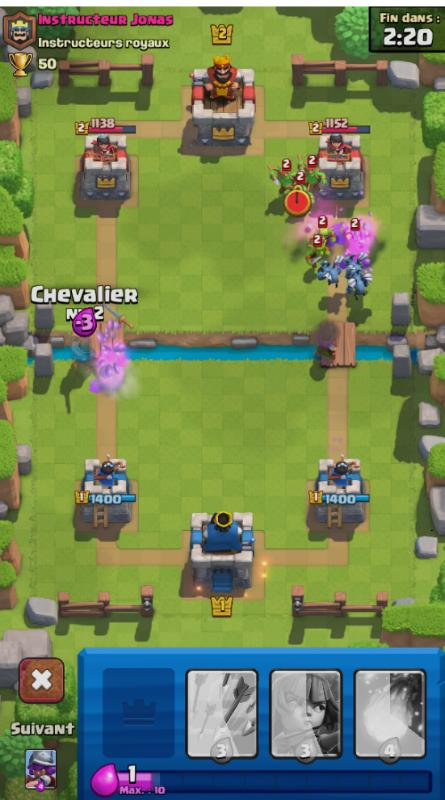chevalier: (68, 325, 105, 381)
gargouille: (313, 260, 344, 293), (337, 250, 371, 280), (346, 269, 375, 301)
gobelin: (300, 240, 332, 269), (339, 224, 370, 250), (312, 223, 338, 251)
gobelin_lances: (284, 172, 315, 208), (298, 156, 327, 193), (270, 163, 300, 196)
